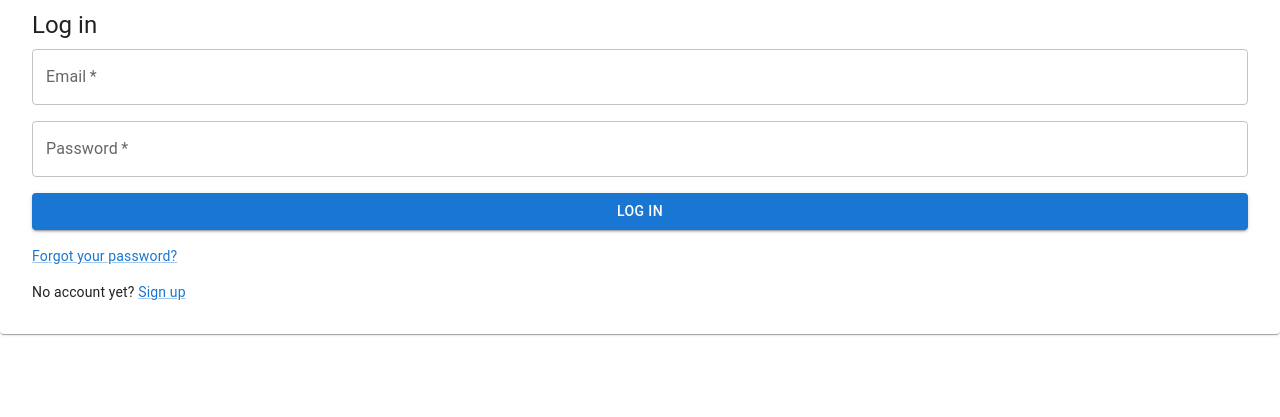
Scenario: Login › shows the error and stays on the page when the login fails
In the field labelled "Email *": {"x": 640, "y": 77} [32,49,1248,105], type "me@example.test"
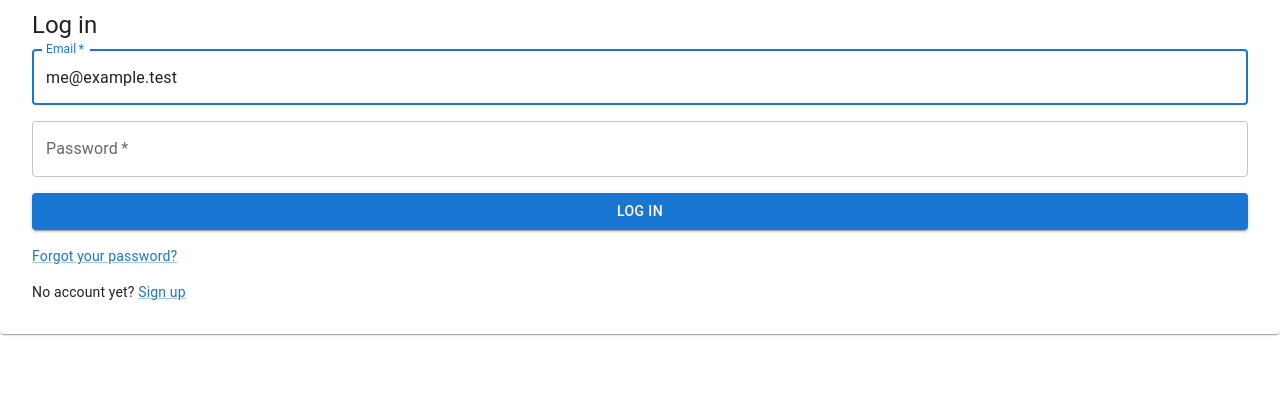
In the password field labelled "Password *": {"x": 640, "y": 149} [32,121,1248,177], type "secret123"
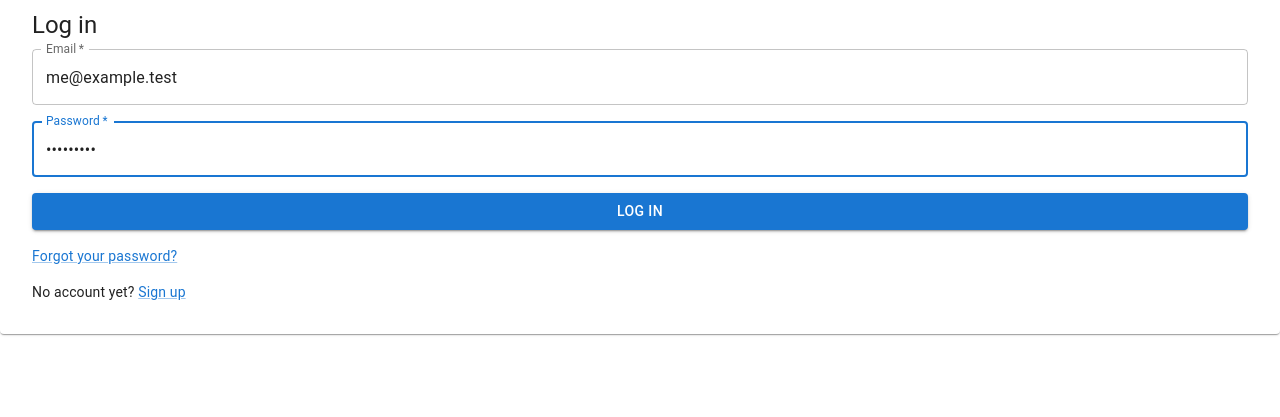
Click the button "Log in": {"x": 640, "y": 212} [32,193,1248,230]
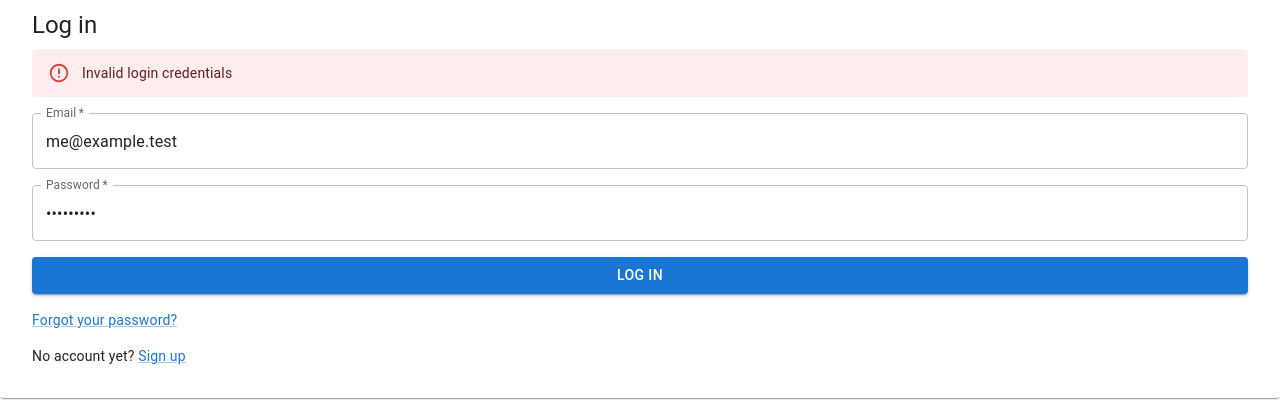
Expected: the button "Log in" is enabled, [32,257,1248,294]
Expected: the message reads "Invalid login credentials", [82,65,232,81]
